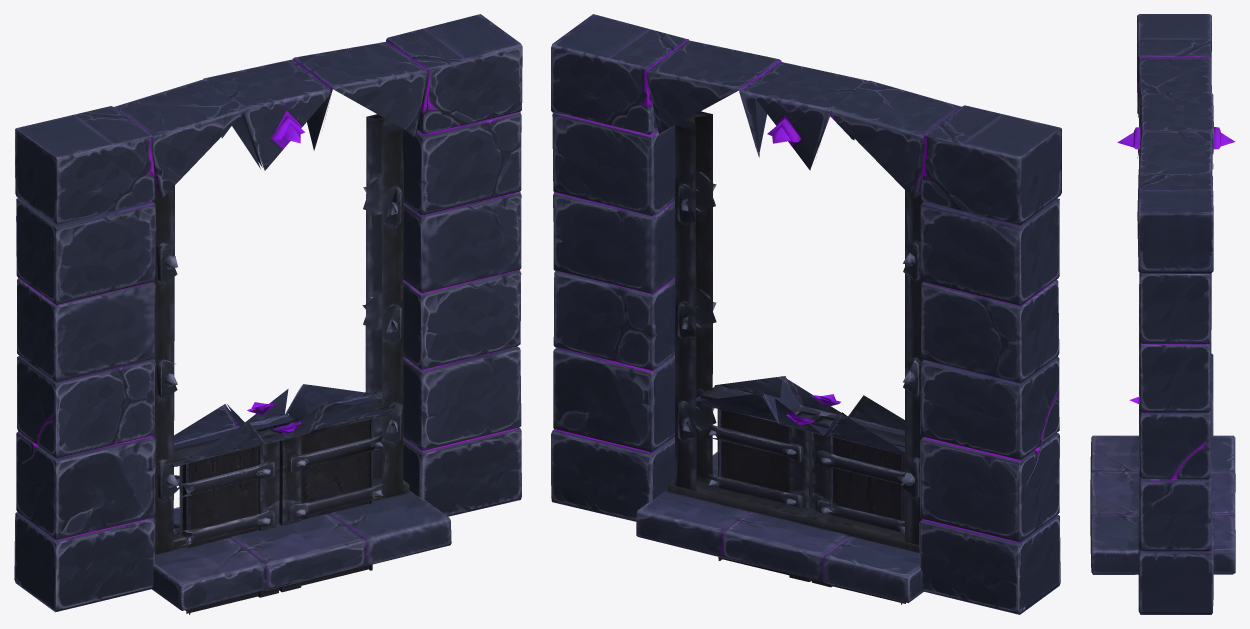
File: door_square_destroyed_derived.glb
The picture shows the model from 3 angles, left to right: view 1: azimuth 30°, elevation 25°; view 2: azimuth 150°, elevation 25°; view 3: azimuth 270°, elevation 25°; orthographic projection. The views are drawn at different scales.
Parts seen in each view (by area): view 1: Mesh_0.001, SquareDoorDebris; view 2: Mesh_0.001, SquareDoorDebris; view 3: Mesh_0.001.
Boxes of the visible parts, box(x1,y1,x2,y2) form: Mesh_0.001: box(14, 14, 522, 612); SquareDoorDebris: box(168, 384, 397, 614); Mesh_0.001: box(551, 14, 1061, 614); SquareDoorDebris: box(696, 376, 905, 604); Mesh_0.001: box(1090, 14, 1235, 614).
Bounding box in the file's own units: 1 × 1.03 × 0.3076.
Materials: 1 (1 with a texture image).
